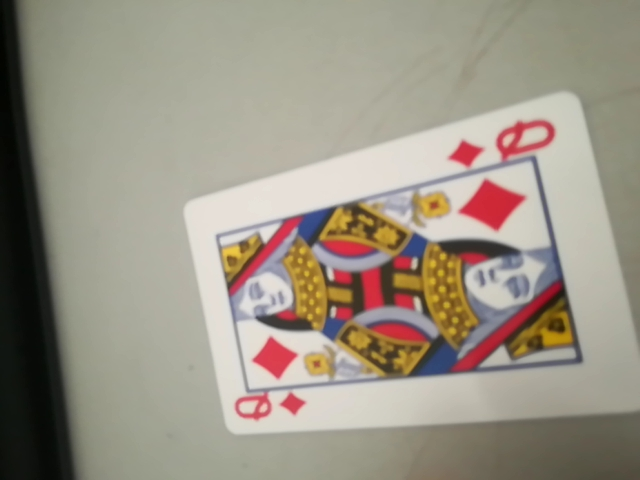fk q: (440, 115, 566, 175), (230, 384, 310, 435)
